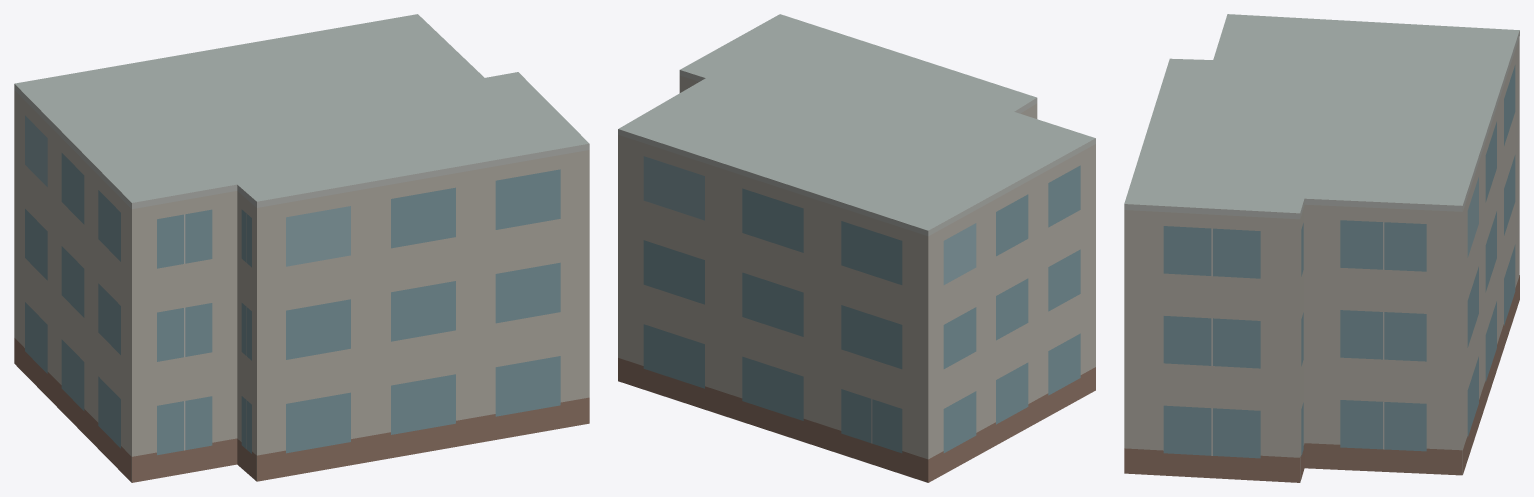
File: survey-upis-32546637.glb
3 renders of one model, left to right at view 1: azimuth 30°, elevation 25°; view 2: azimuth 150°, elevation 25°; view 3: azimuth 270°, elevation 25°, orthographic. The views are drawn at different scales.
Visible parts, largest first — view 1: survey-upis-32546637.tmp; view 2: survey-upis-32546637.tmp; view 3: survey-upis-32546637.tmp.
Part boxes in pixels (bbox=[...]): survey-upis-32546637.tmp: bbox=[14, 14, 589, 482]; survey-upis-32546637.tmp: bbox=[618, 14, 1095, 482]; survey-upis-32546637.tmp: bbox=[1124, 14, 1519, 482].
Size of the model in its own units: 17.3 by 10.9 by 14.51.
